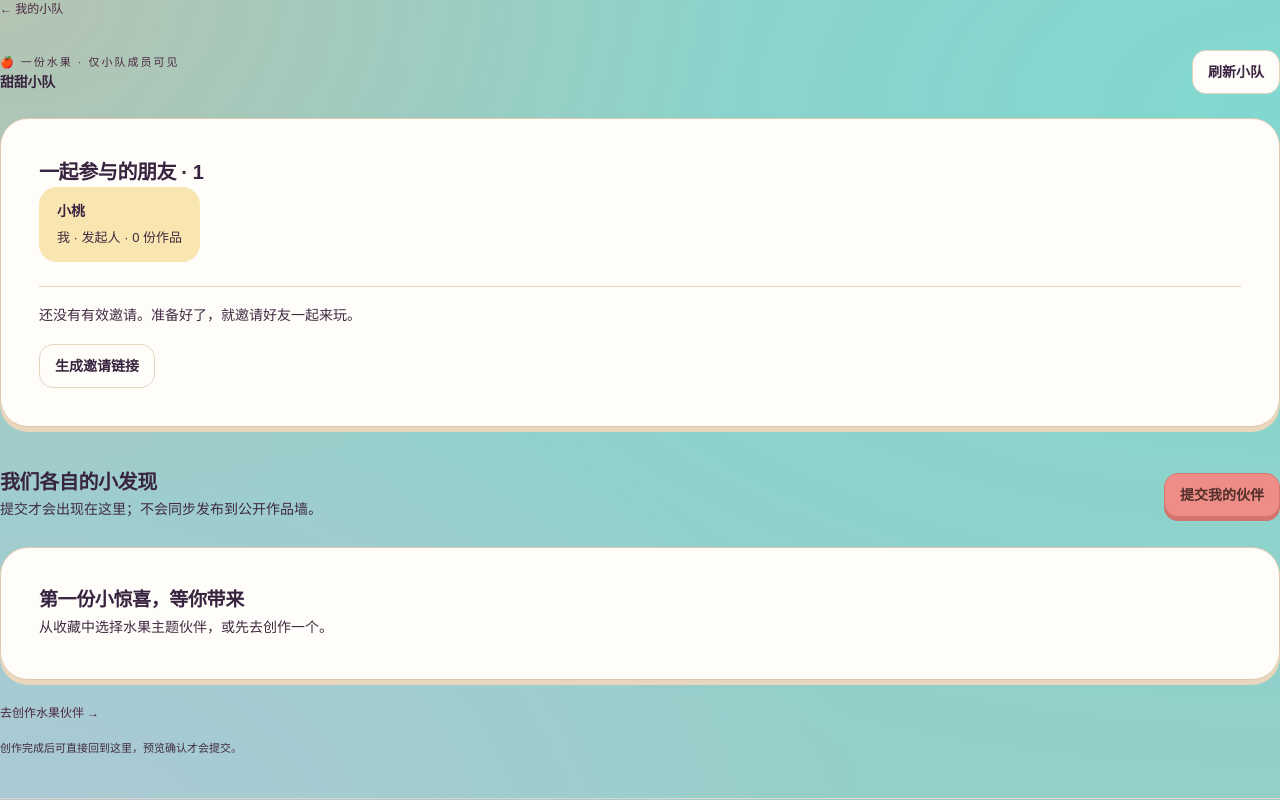
Scenario: opening submit does not submit and only offers ready same-theme companions
Click the button "提交我的伙伴" at (1222, 495), box [1164, 473, 1279, 517]
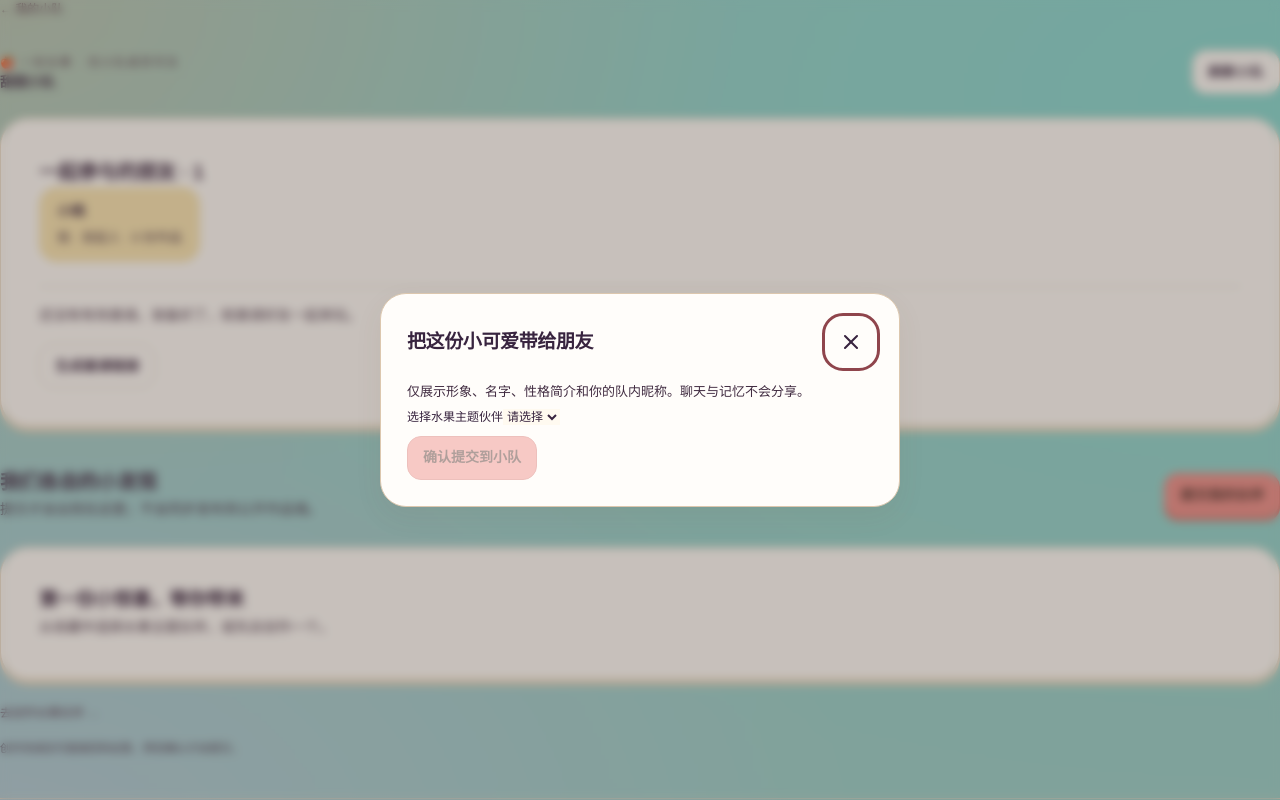
Select "水果" in the dropdown labelled "选择水果主题伙伴" at (532, 417), box [503, 409, 560, 425]
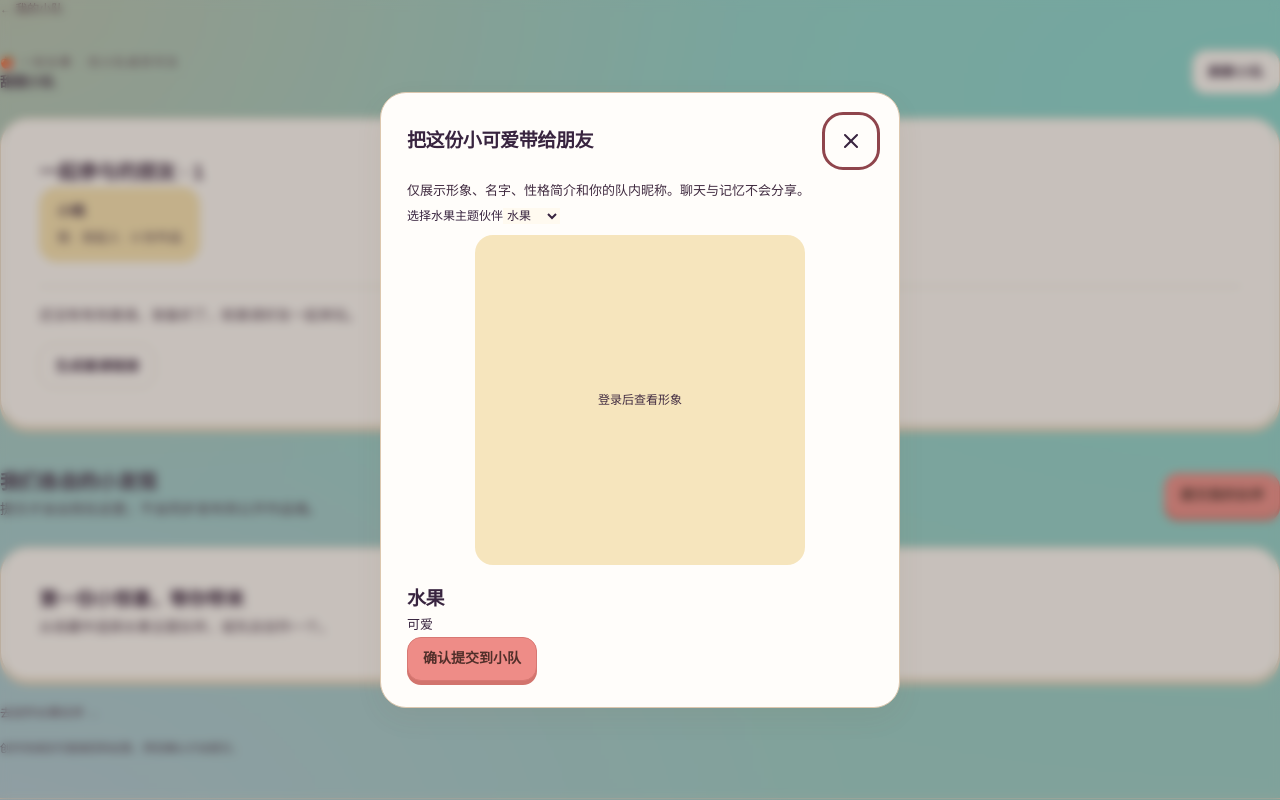
Click the button "确认提交到小队" at (472, 659), box [407, 637, 537, 681]
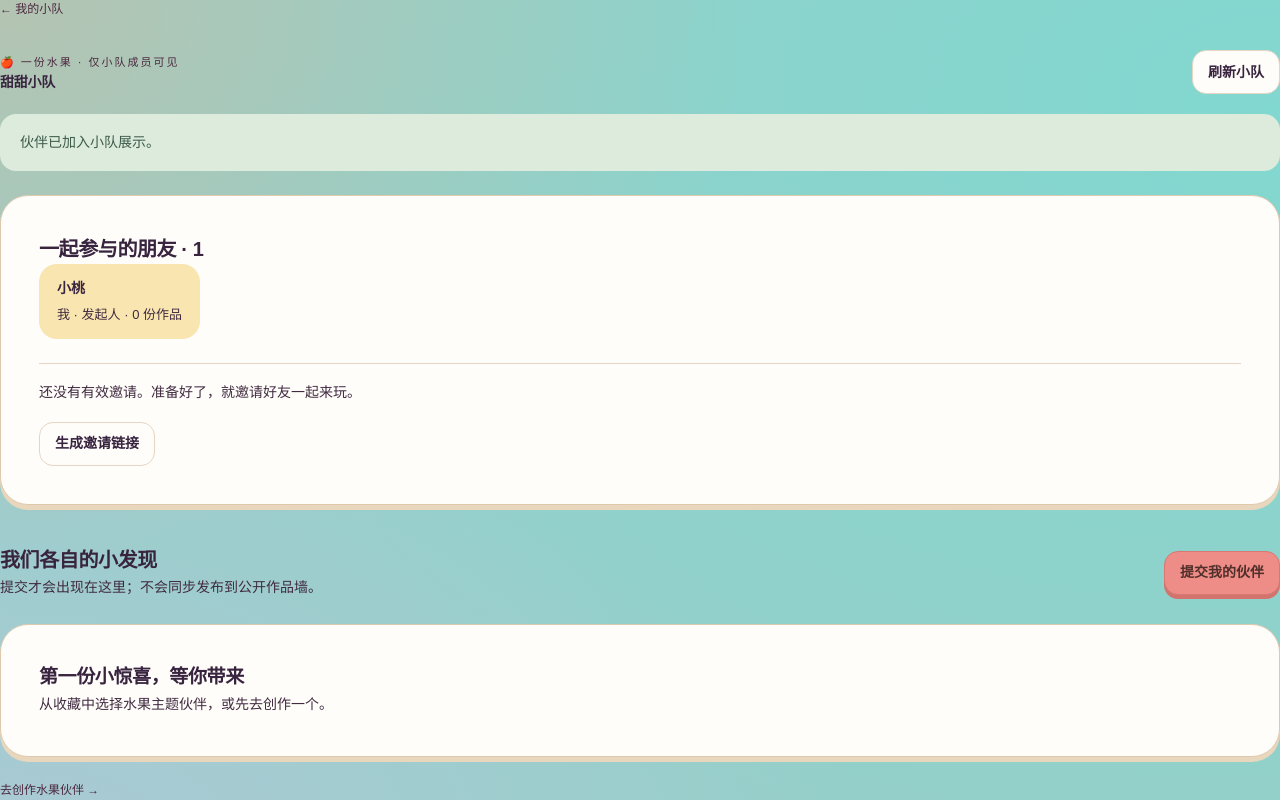
Now the text "伙伴已加入小队展示。" is shown, box [0, 114, 1279, 171]
